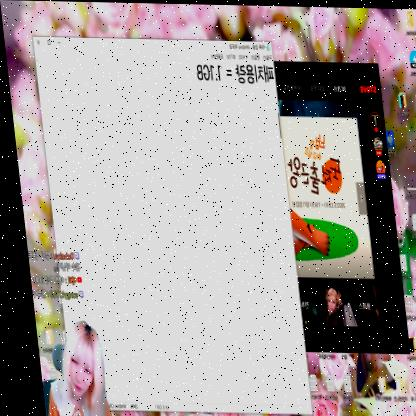streamer: (28, 318, 107, 416)
